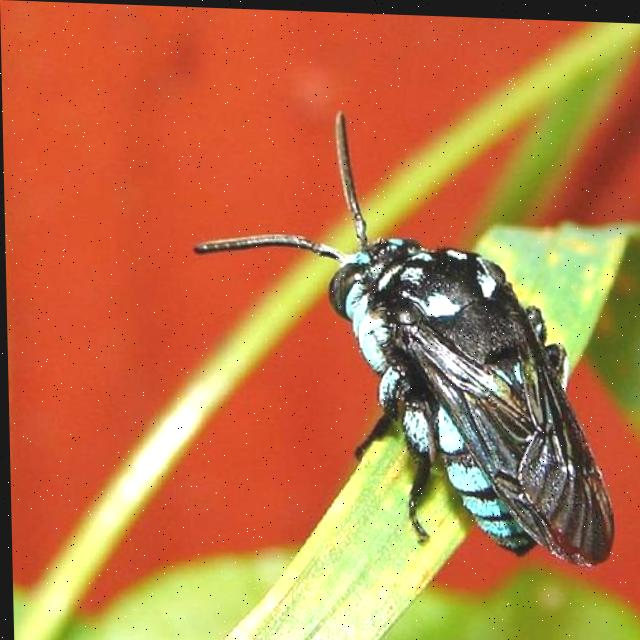Thyreus: (183, 93, 622, 574)
